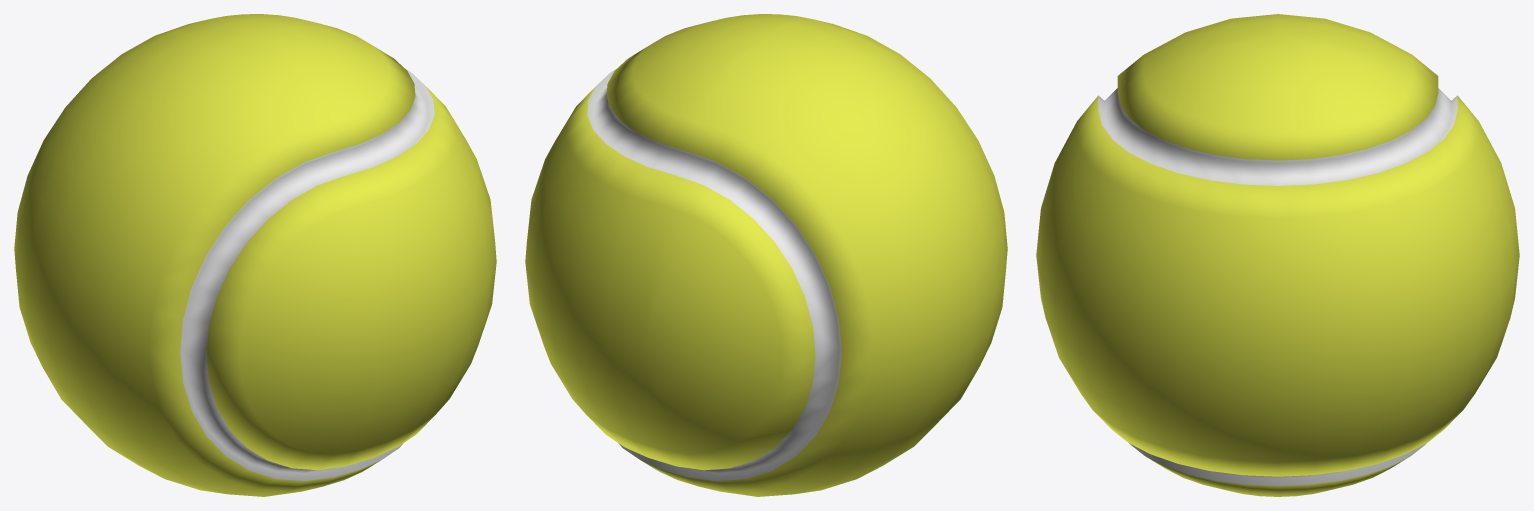
The model's file is pilka_zolta.dae.
The picture shows the model from 3 angles, left to right: view 1: azimuth 30°, elevation 25°; view 2: azimuth 150°, elevation 25°; view 3: azimuth 270°, elevation 25°; orthographic projection.
Visible parts, largest first — view 1: Sphere.001; view 2: Sphere.001; view 3: Sphere.001.
Boxes of the visible parts, x1,y1,x2,y2 form: Sphere.001: (14, 14, 496, 496); Sphere.001: (525, 14, 1007, 496); Sphere.001: (1036, 14, 1519, 496).
Bounding box in the file's own units: 0.0686 × 0.0686 × 0.0686.
